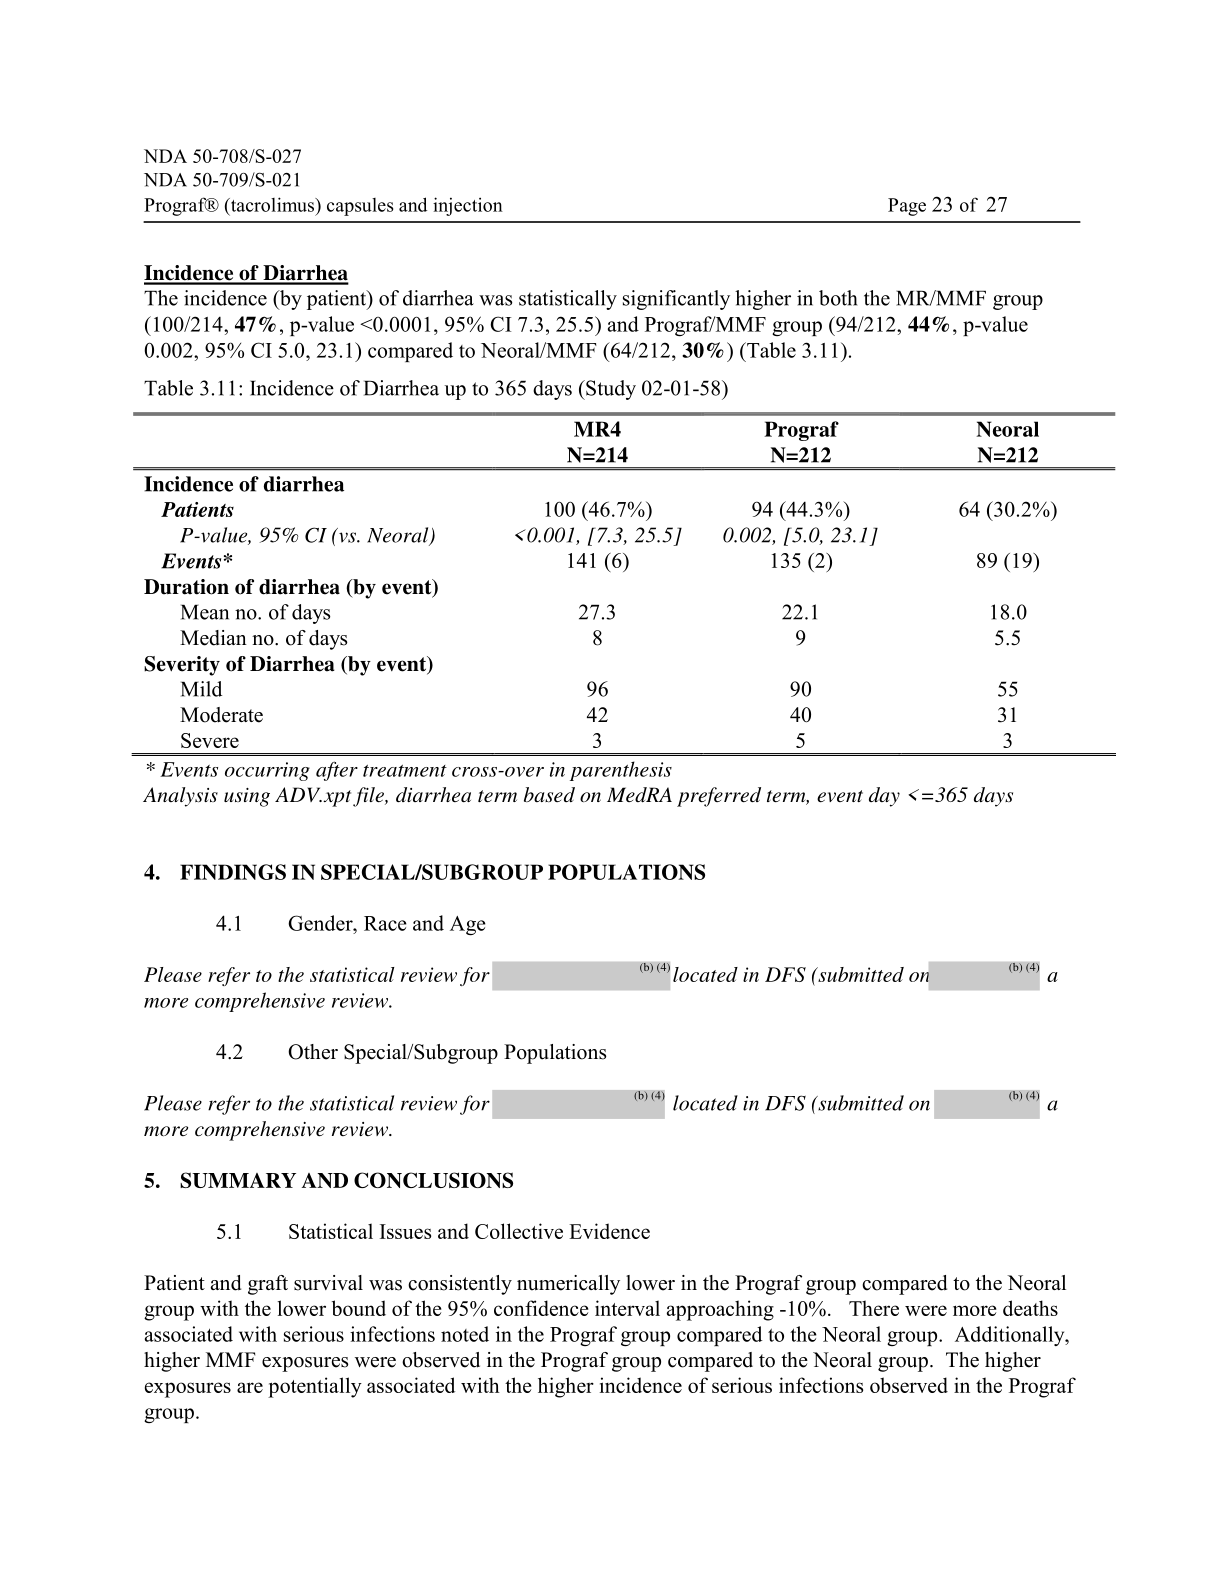partial_lined: (130, 411, 1119, 757)
